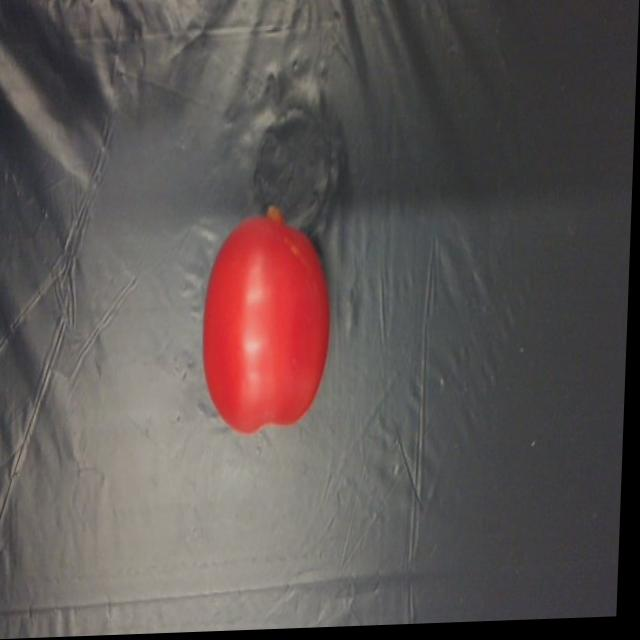kirmizi: (193, 190, 344, 445)
